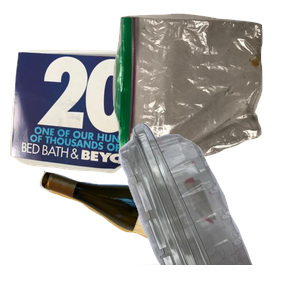glass: (37, 168, 242, 300)
paper: (10, 41, 242, 207)
plastic: (71, 120, 300, 300)
trash: (110, 11, 300, 167)
